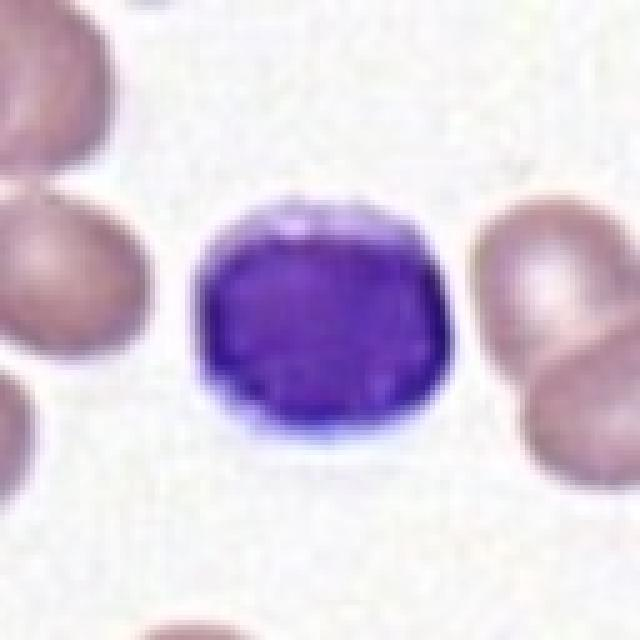lympho: (183, 188, 459, 447)
